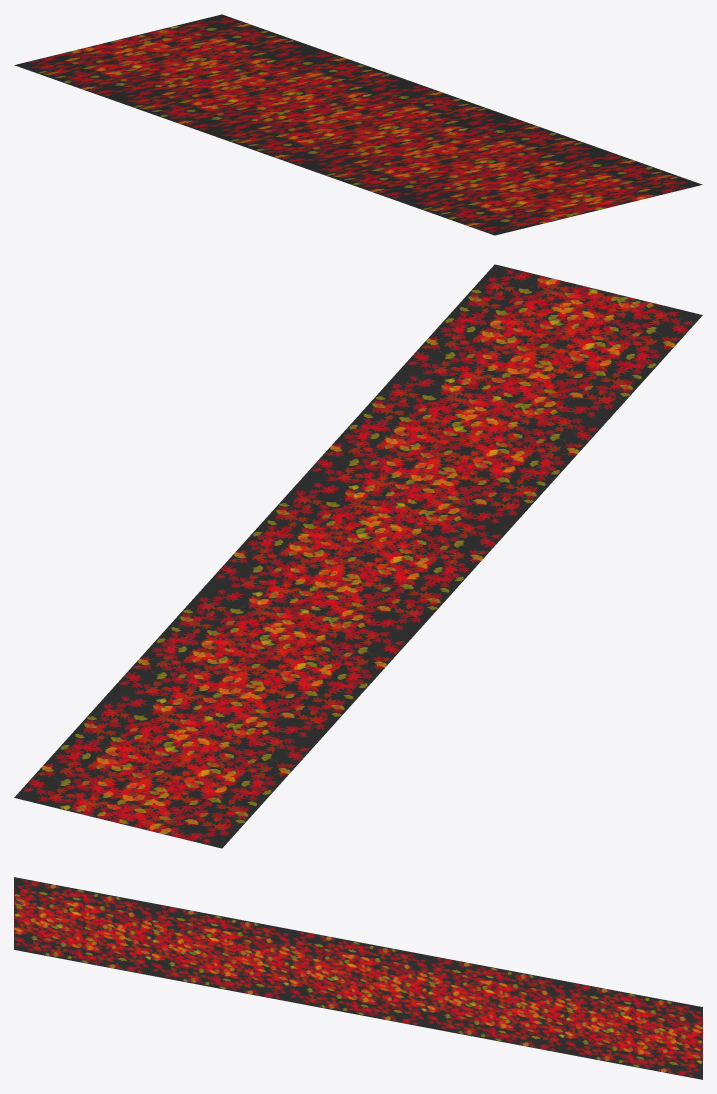
File: OBJ_CourseAki_Floor_3.fbx
3 renders of one model, top to bottom at view 1: azimuth 30°, elevation 25°; view 2: azimuth 150°, elevation 25°; view 3: azimuth 270°, elevation 25°, orthographic. The views are drawn at different scales.
Parts seen in each view (by area): view 1: polySurface81; view 2: polySurface81; view 3: polySurface81.
Boxes of the visible parts, x1=… form: polySurface81: x1=14, y1=14, x2=702, y2=235; polySurface81: x1=14, y1=264, x2=702, y2=848; polySurface81: x1=14, y1=877, x2=702, y2=1079.
Size of the model in its own units: 6 by 5 by 24.
1 material, 1 textured.
